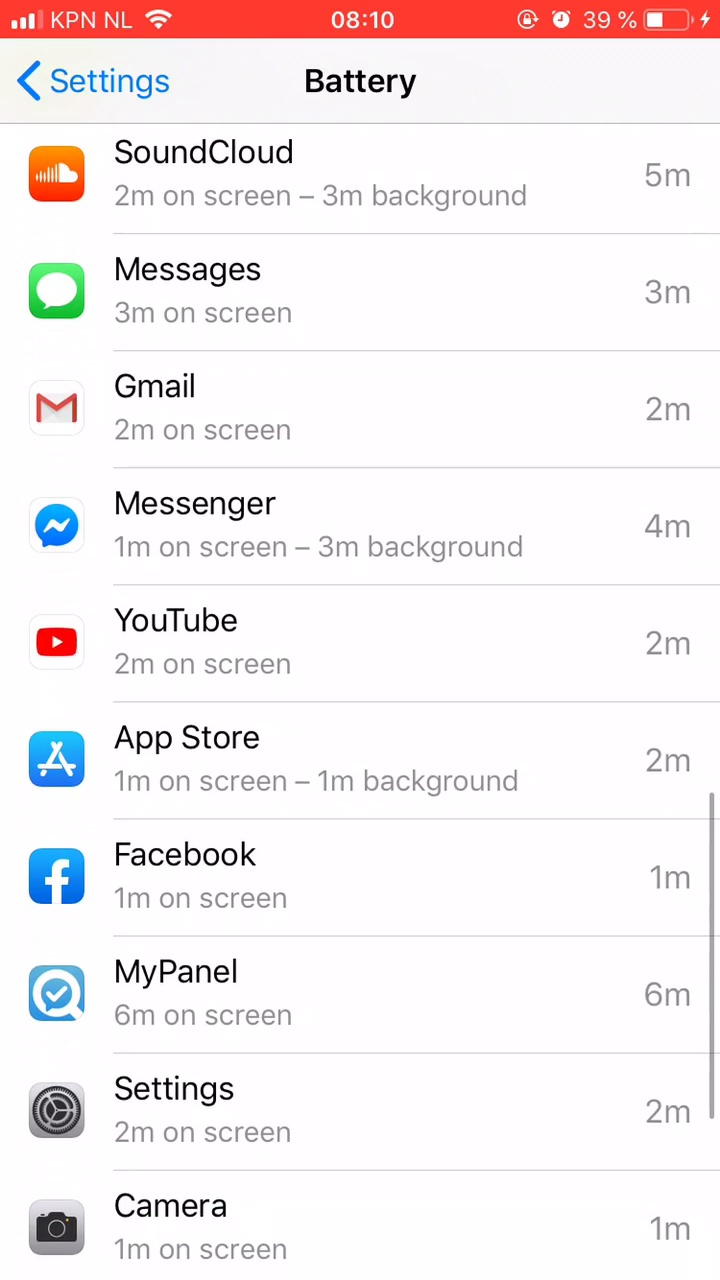app: (31, 134, 714, 217), (27, 252, 710, 335), (21, 364, 704, 447), (24, 485, 707, 568), (18, 602, 701, 685), (13, 724, 696, 807), (15, 831, 698, 914), (16, 948, 699, 1031), (21, 1068, 704, 1151), (19, 1194, 702, 1277)
